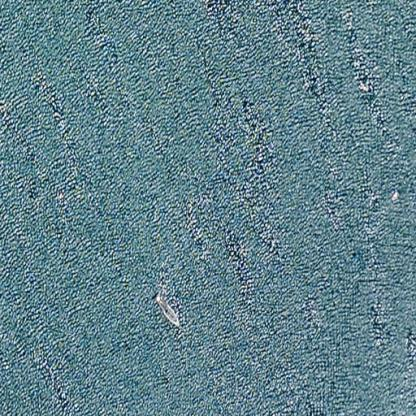ship: (147, 288, 192, 336), (388, 187, 403, 204)
